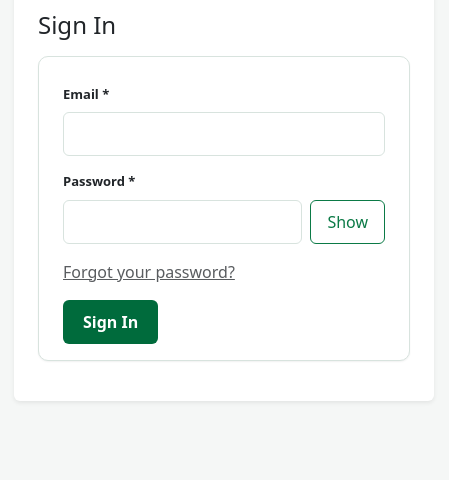
Test: Login › shows a generic invalid-credentials message on 401, and never shows a busy Sign In button forever
In the field labelled "Email *": coordinates (224, 134) [63,112,385,156], type "nobody@toktickit.dev"
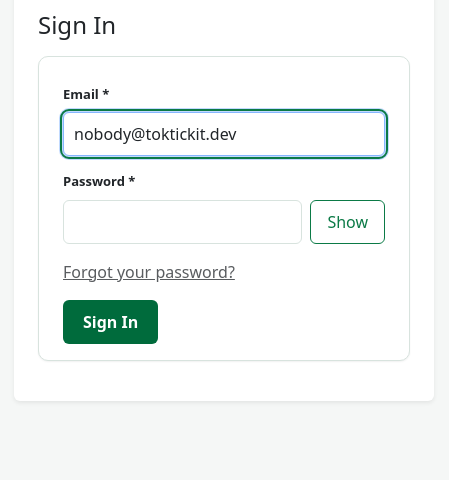
In the password field labelled "Password *": coordinates (183, 222) [63,200,302,244], type "WrongPass123!"
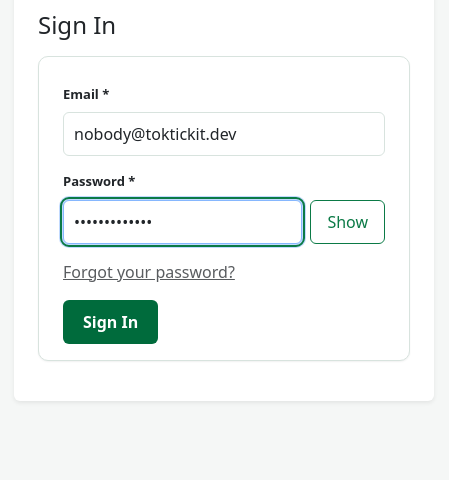
Click the button "Sign In": coordinates (111, 322) [63,300,158,344]
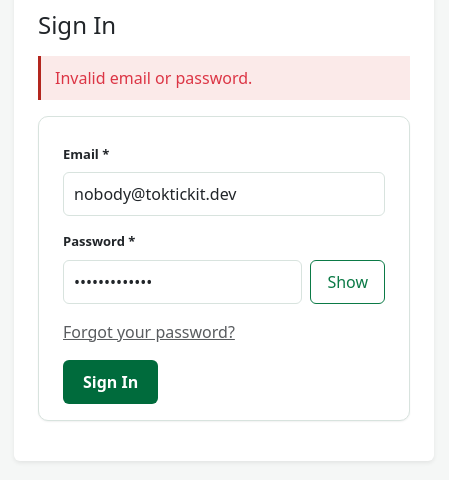
Expected: the button "Sign In" is enabled, [63,360,158,404]
Now the text "Invalid email or password." is shown, box [38,56,410,100]
